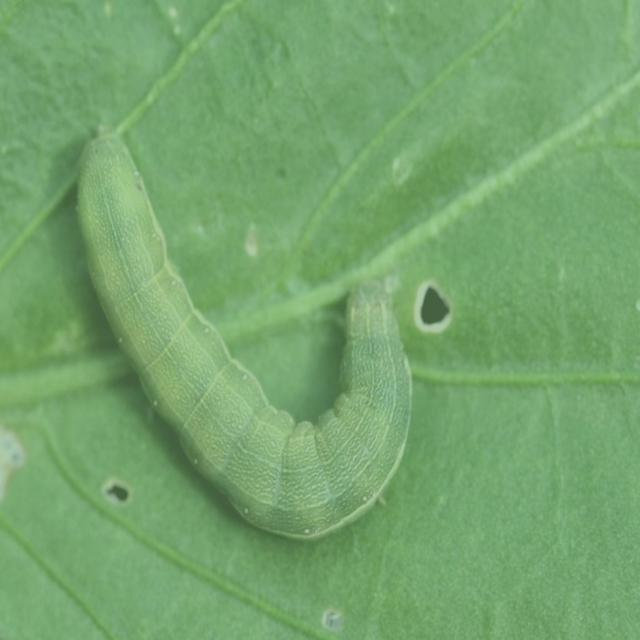armyworm: (74, 128, 413, 541)
